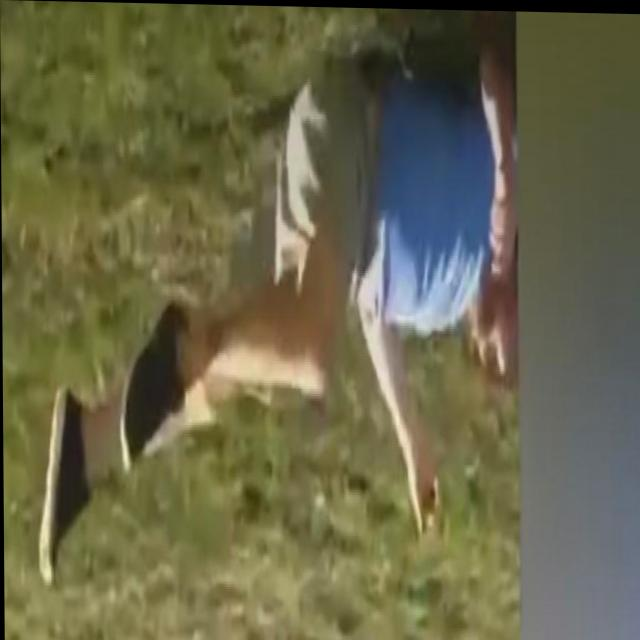fall: (34, 45, 519, 592)
